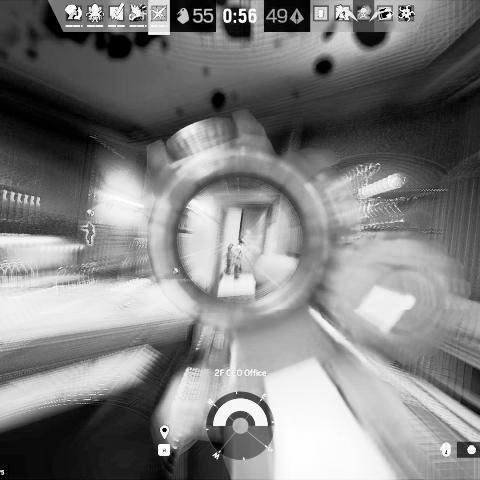Character: (225, 239, 244, 282)
Friend_label: (161, 266, 196, 282), (77, 208, 102, 224)
Head: (237, 241, 243, 247)
